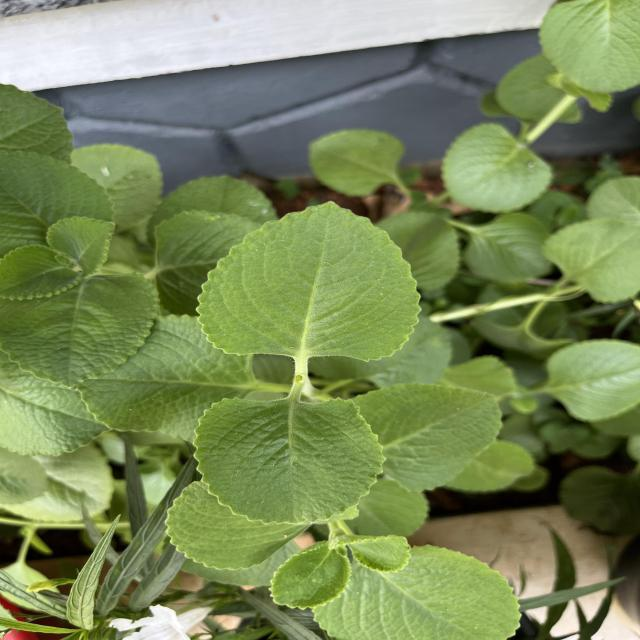Plectranthus barbatus: (193, 196, 424, 364), (192, 390, 388, 526), (315, 544, 524, 640), (1, 271, 162, 390), (351, 382, 504, 493), (439, 120, 556, 215), (543, 336, 640, 424), (308, 128, 408, 196), (268, 541, 353, 611), (0, 243, 81, 302)
